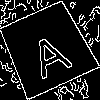A: (22, 23, 75, 80)
